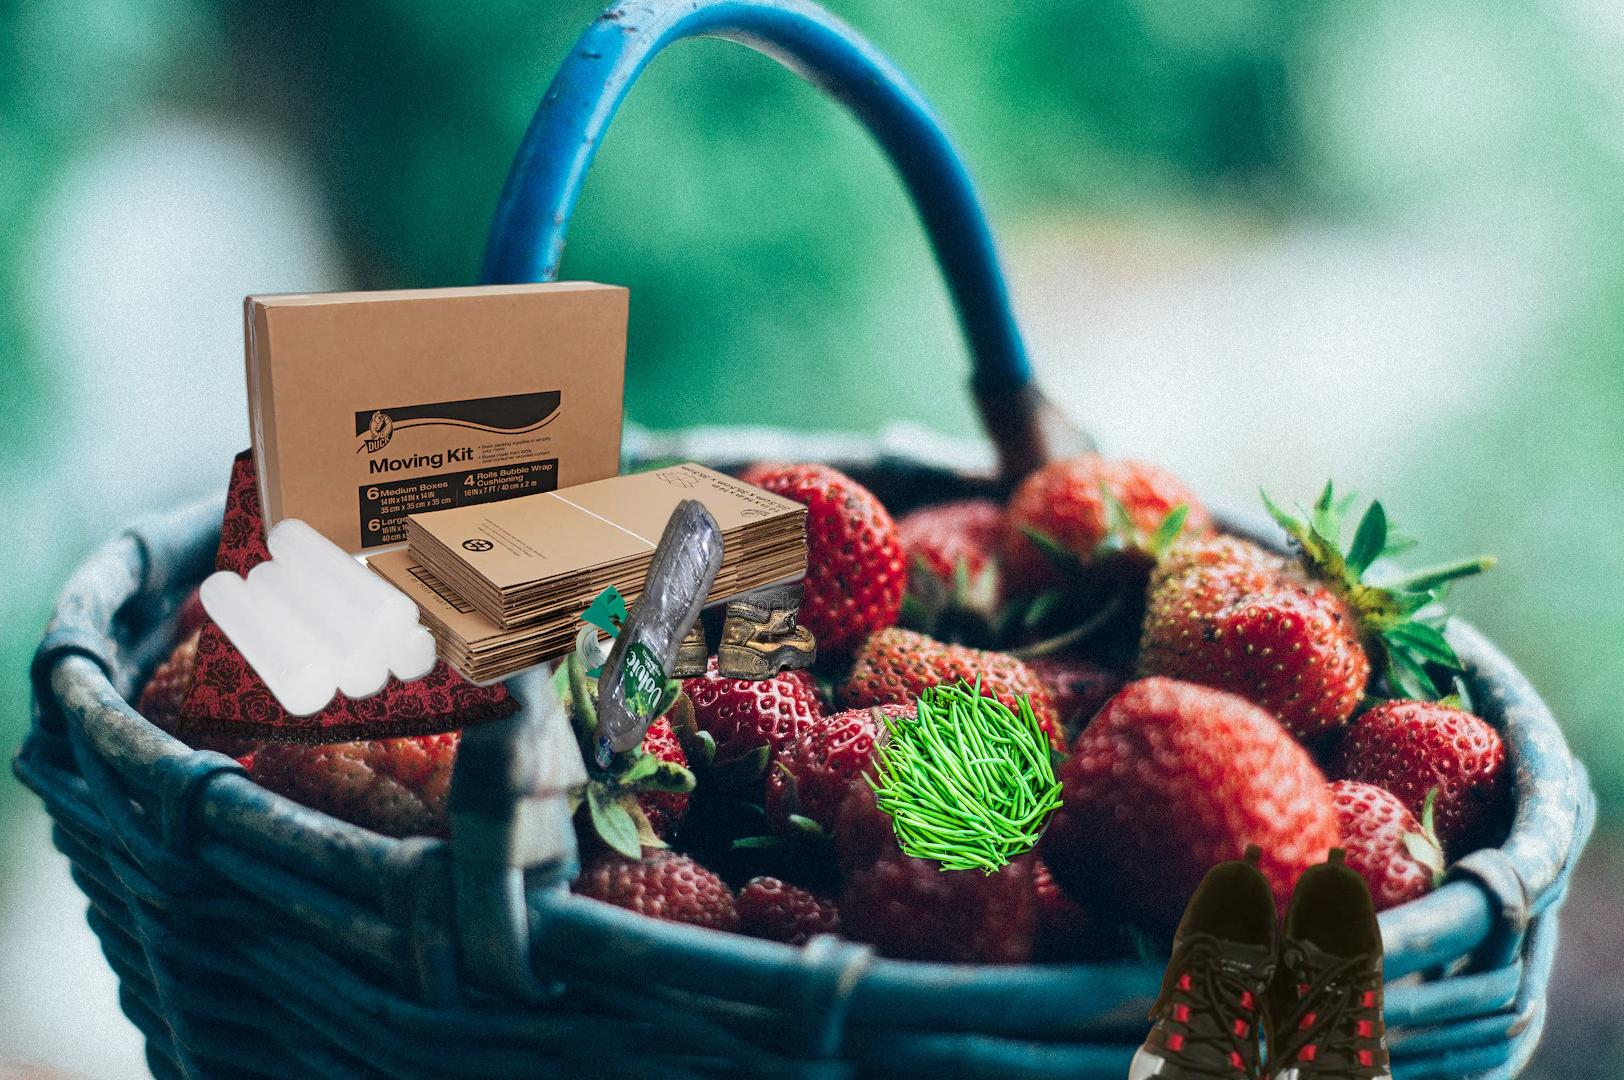biological: (853, 669, 1063, 880)
clothes: (82, 361, 527, 750)
plastic-bottles: (588, 495, 728, 775)
shoes: (1122, 840, 1397, 1080), (608, 571, 819, 684)
trashbox-cardboard: (192, 274, 815, 723)
